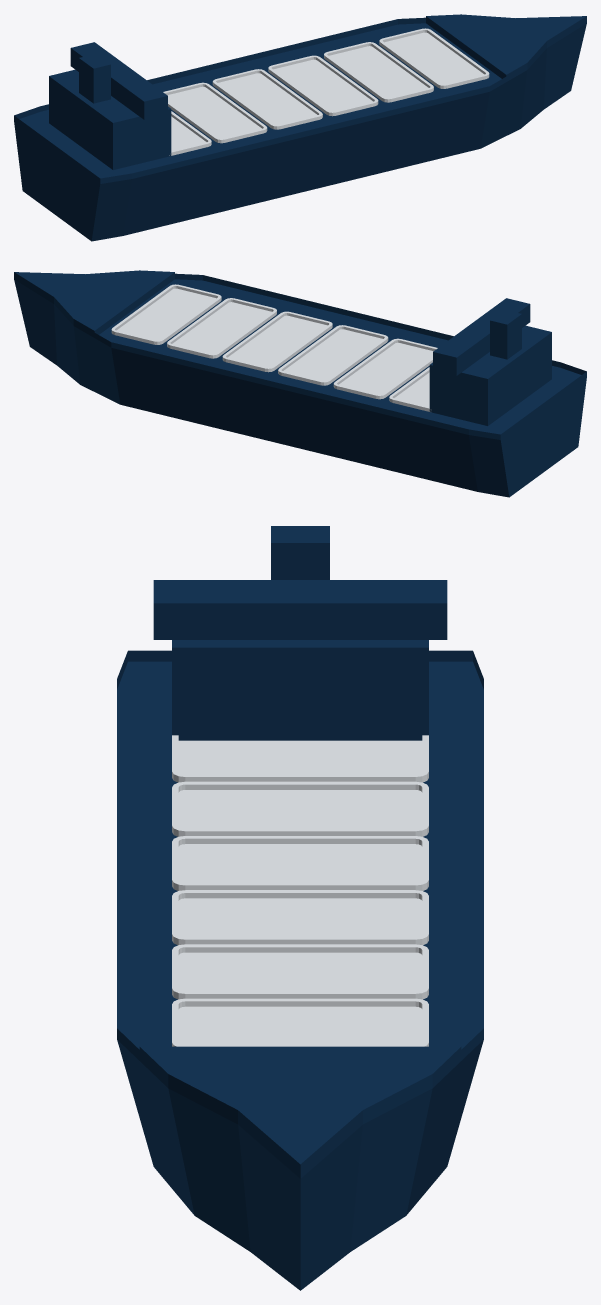
The model's file is vessel-hold-06.glb.
3 renders of one model, top to bottom at view 1: azimuth 30°, elevation 25°; view 2: azimuth 150°, elevation 25°; view 3: azimuth 270°, elevation 25°, orthographic. The views are drawn at different scales.
Visible parts, largest first — view 1: hull, superstructure, detail_forecastle, detail_bulwark, hold_01, hold_04, hold_03, hold_02, hold_05, detail_funnel, hold_06; view 2: hull, superstructure, detail_forecastle, detail_bulwark, hold_01, hold_04, hold_03, hold_02, hold_05, detail_funnel, hold_06; view 3: hull, superstructure, detail_forecastle, hold_03, hold_02, hold_05, hold_04, hold_01, hold_06, detail_bulwark, detail_funnel.
Part boxes in pixels (box(x1,y1,x2,y2)): hull: box(14, 23, 586, 241); superstructure: box(49, 42, 171, 169); detail_forecastle: box(426, 14, 586, 81); detail_bulwark: box(14, 17, 586, 183); hold_01: box(379, 28, 489, 88); hold_04: box(212, 69, 322, 129); hold_03: box(268, 55, 378, 116); hold_02: box(324, 42, 433, 102); hold_05: box(163, 82, 267, 143); detail_funnel: box(79, 53, 110, 103); hold_06: box(169, 111, 211, 155); hull: box(14, 279, 586, 497); superstructure: box(429, 298, 551, 425); detail_forecastle: box(14, 270, 174, 337); detail_bulwark: box(14, 273, 586, 439); hold_01: box(111, 284, 221, 344); hold_04: box(278, 325, 388, 385); hold_03: box(222, 311, 332, 372); hold_02: box(167, 298, 276, 358); hold_05: box(333, 338, 437, 399); detail_funnel: box(490, 309, 521, 359); hold_06: box(389, 367, 431, 411); hull: box(117, 661, 483, 1290); superstructure: box(153, 580, 447, 740); detail_forecastle: box(139, 1046, 461, 1176); hold_03: box(172, 890, 428, 945); hold_02: box(172, 944, 428, 999); hold_05: box(172, 781, 428, 836); hold_04: box(172, 836, 428, 890); hold_01: box(172, 998, 428, 1046); hold_06: box(172, 735, 428, 782); detail_bulwark: box(117, 650, 483, 1178); detail_funnel: box(271, 526, 329, 579).
Size of the model in its own units: 10 by 2.63 by 3.
